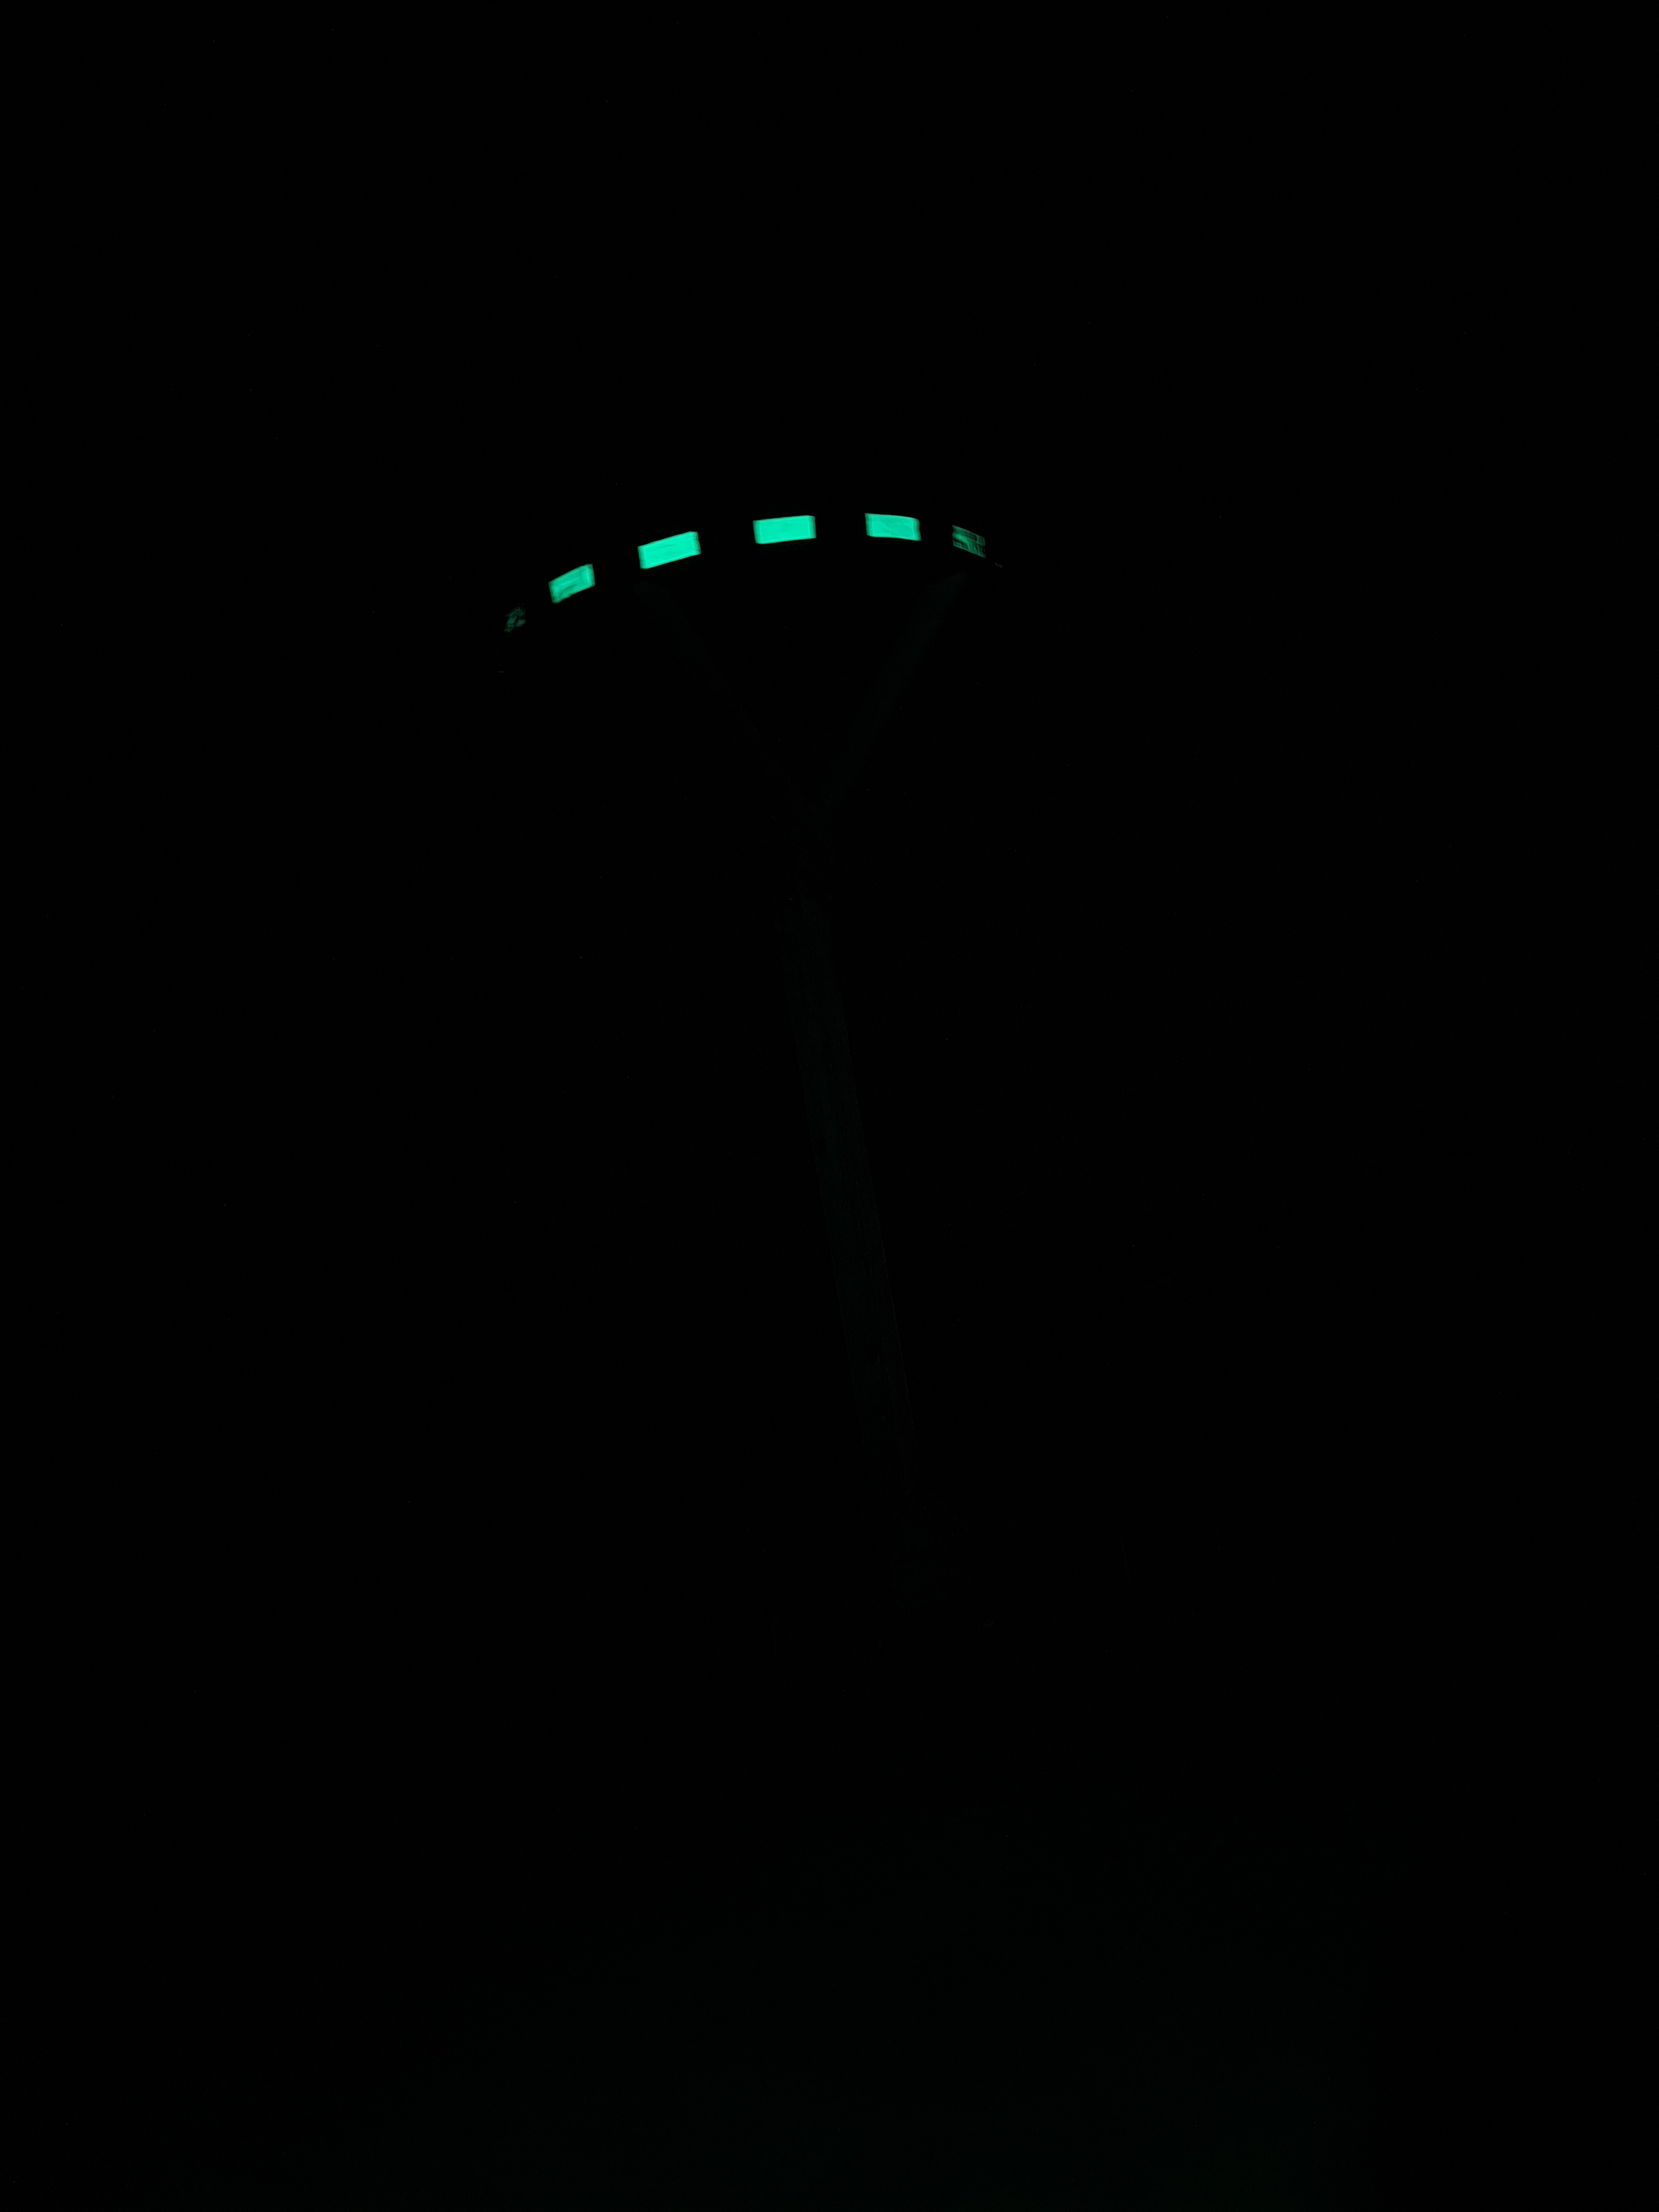hoop: (491, 505, 1006, 636)
